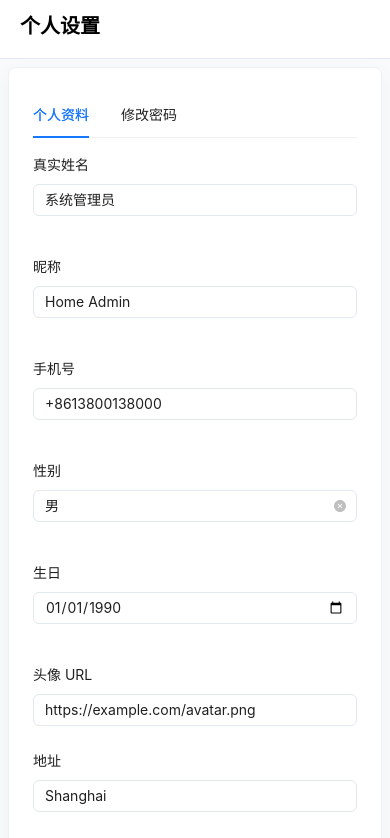
Test: ProfilePage › 重置资料表单时恢复后端加载的资料
The image size is (390, 838).
Replace the text in the field showing "Home Admin" with "Changed" at (195, 302), box [33, 286, 357, 318]
(page scrolled)
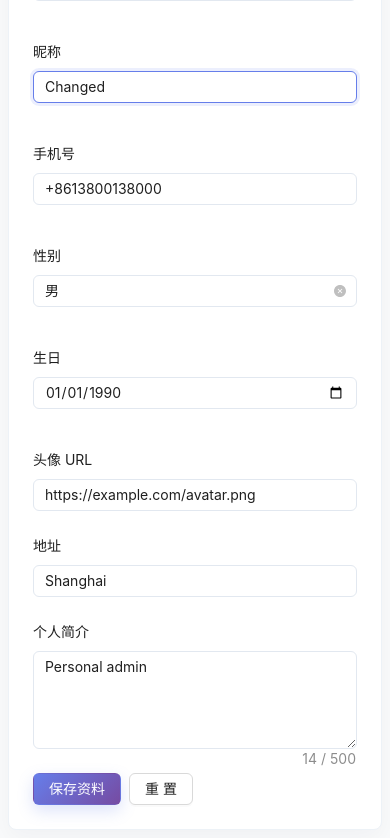
Click the button "重 置".
click(161, 789)  # box [129, 773, 193, 805]
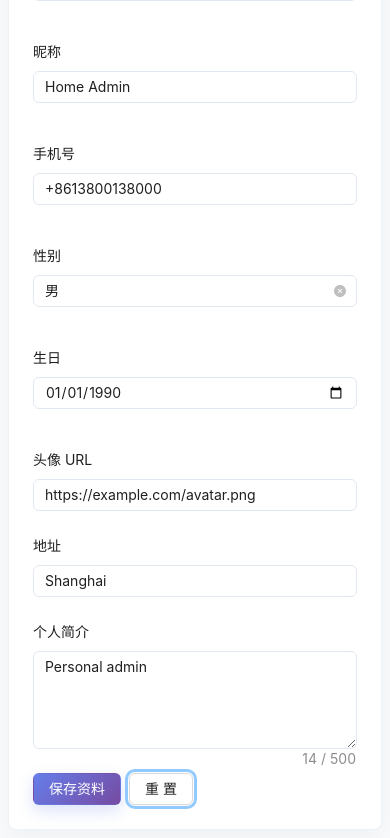
Check: the field showing "Home Admin" is shown, box [33, 71, 357, 103]
